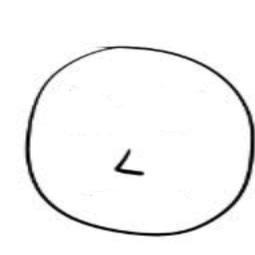pointy_nose: (103, 140, 147, 183)
